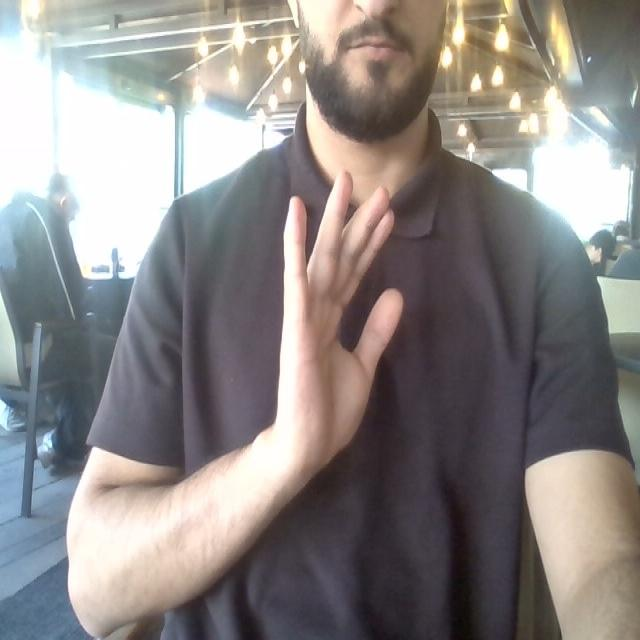Hand: (271, 172, 402, 477)
